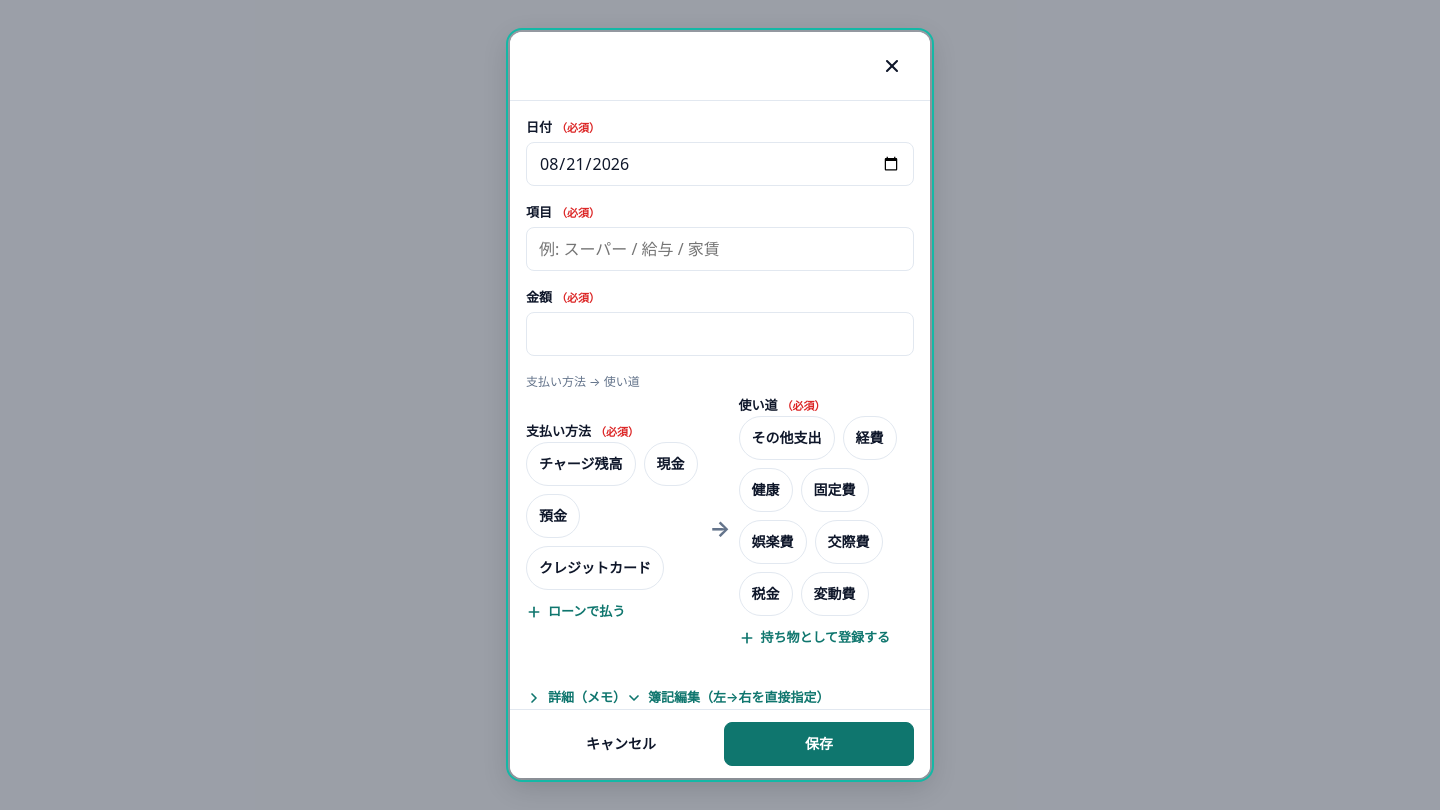
it: ローンで払う（支出シート） › 返済元は全科目から選べる（収入カテゴリも候補に出る）
Expected: the radio button labelled "その他支出" is shown, x1=738 y1=416 x2=834 y2=460
Step 1. Type "自動車" into the field labelled "項目（必須）" → (720, 249), box x1=526 y1=227 x2=914 y2=271
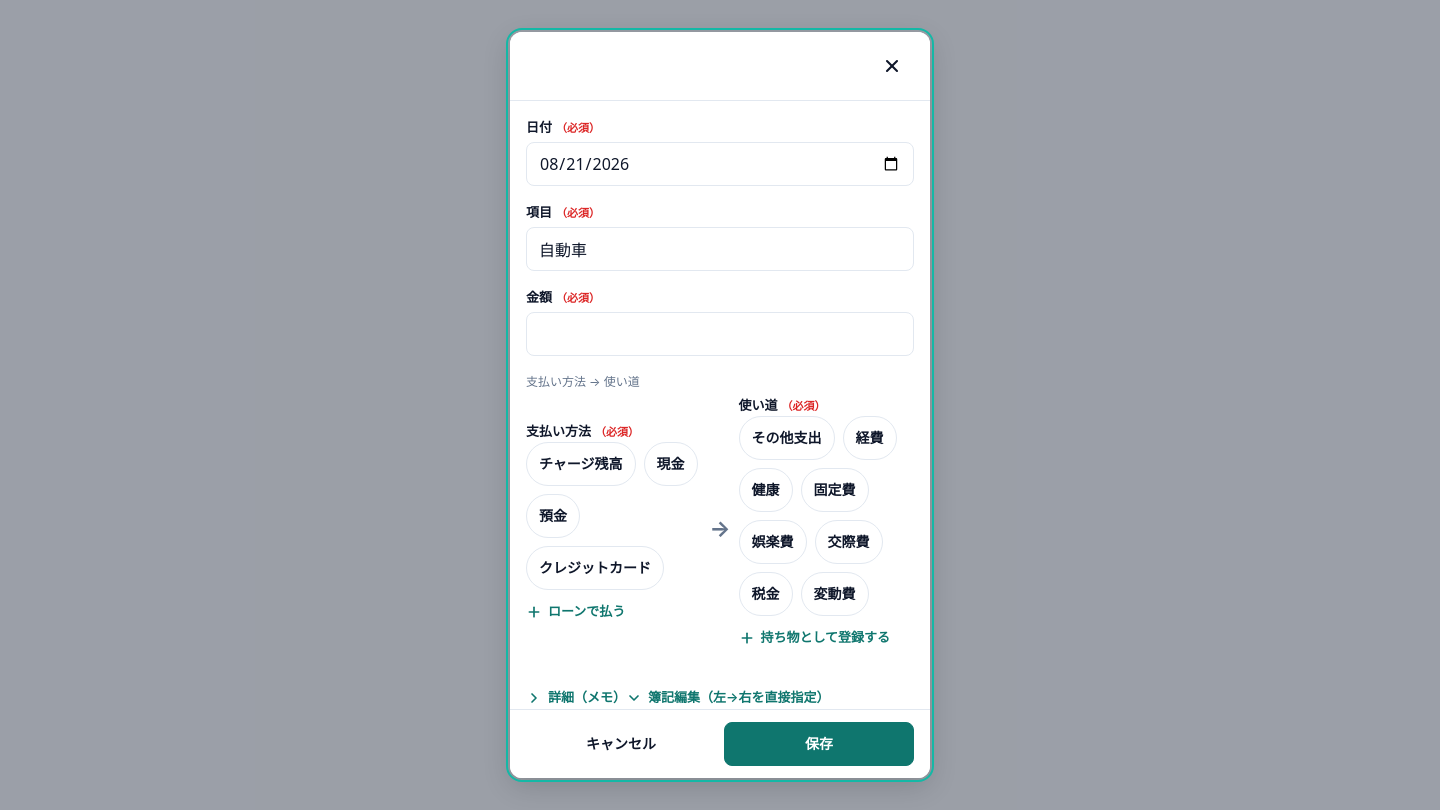
Step 2. Type "1200000" into the field labelled "金額（必須）" → (720, 334), box x1=526 y1=312 x2=914 y2=356
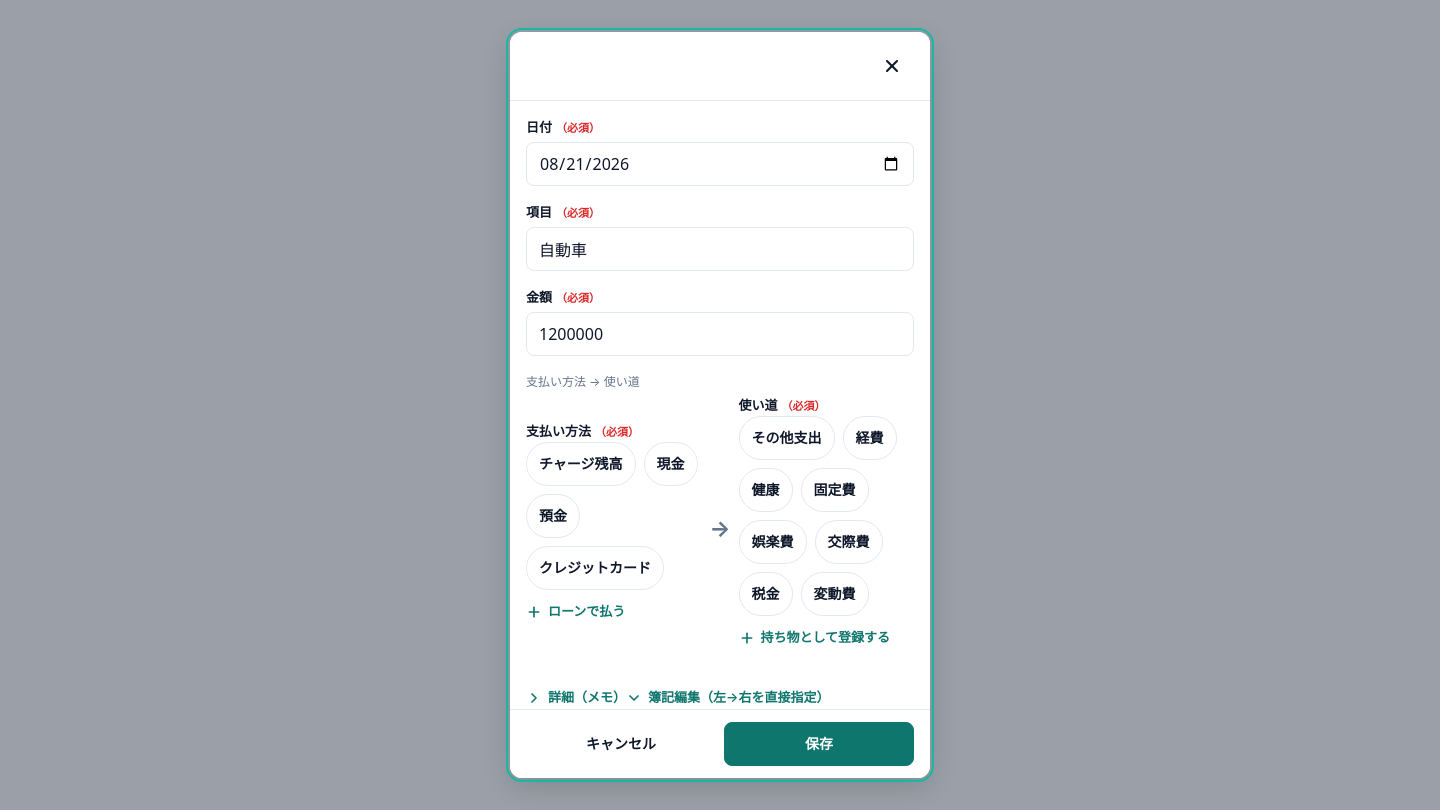
Step 3. Click the radio button labelled "その他支出" → (786, 438), box x1=738 y1=416 x2=834 y2=460
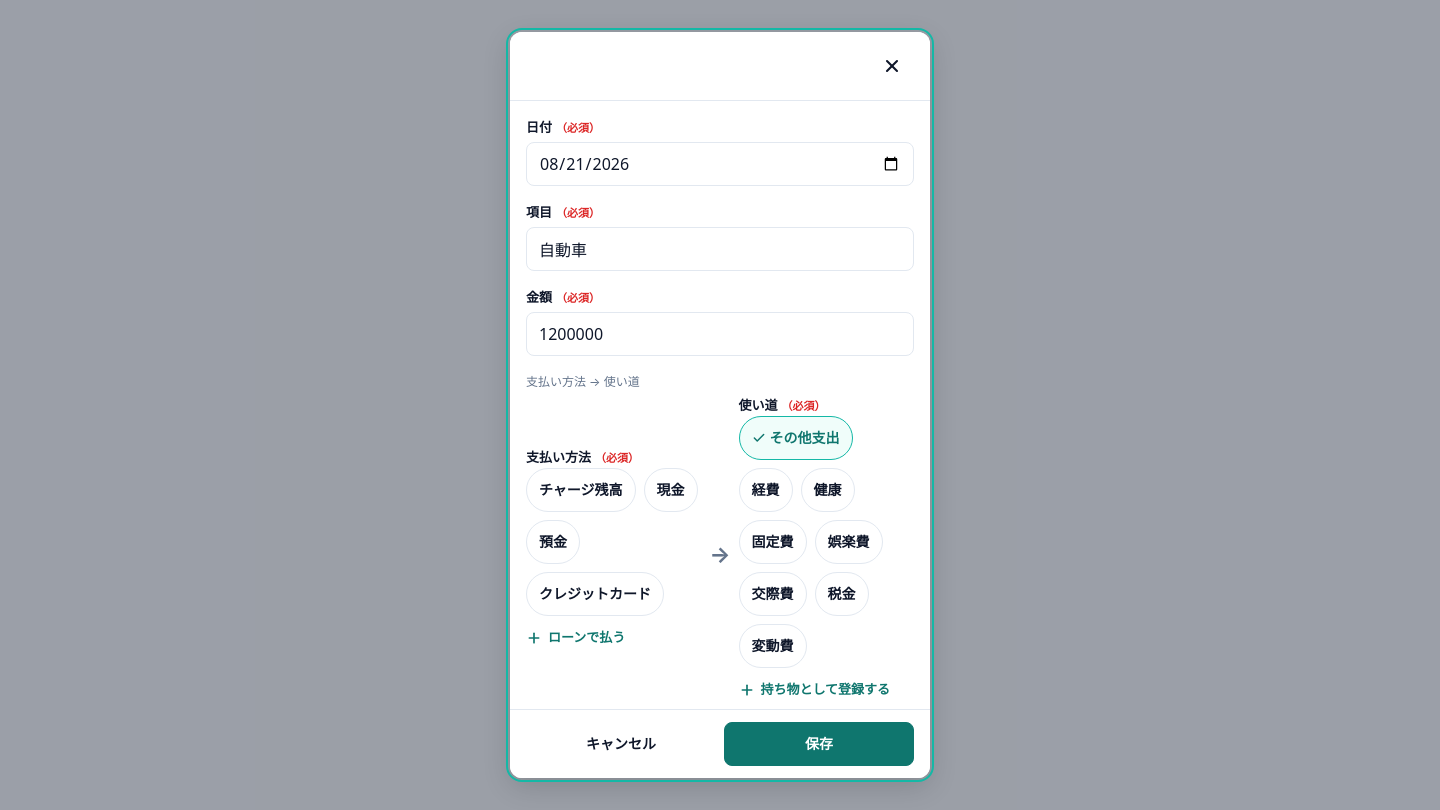
Step 4. Click the button "ローンで払う" → (576, 638), box x1=526 y1=616 x2=625 y2=660
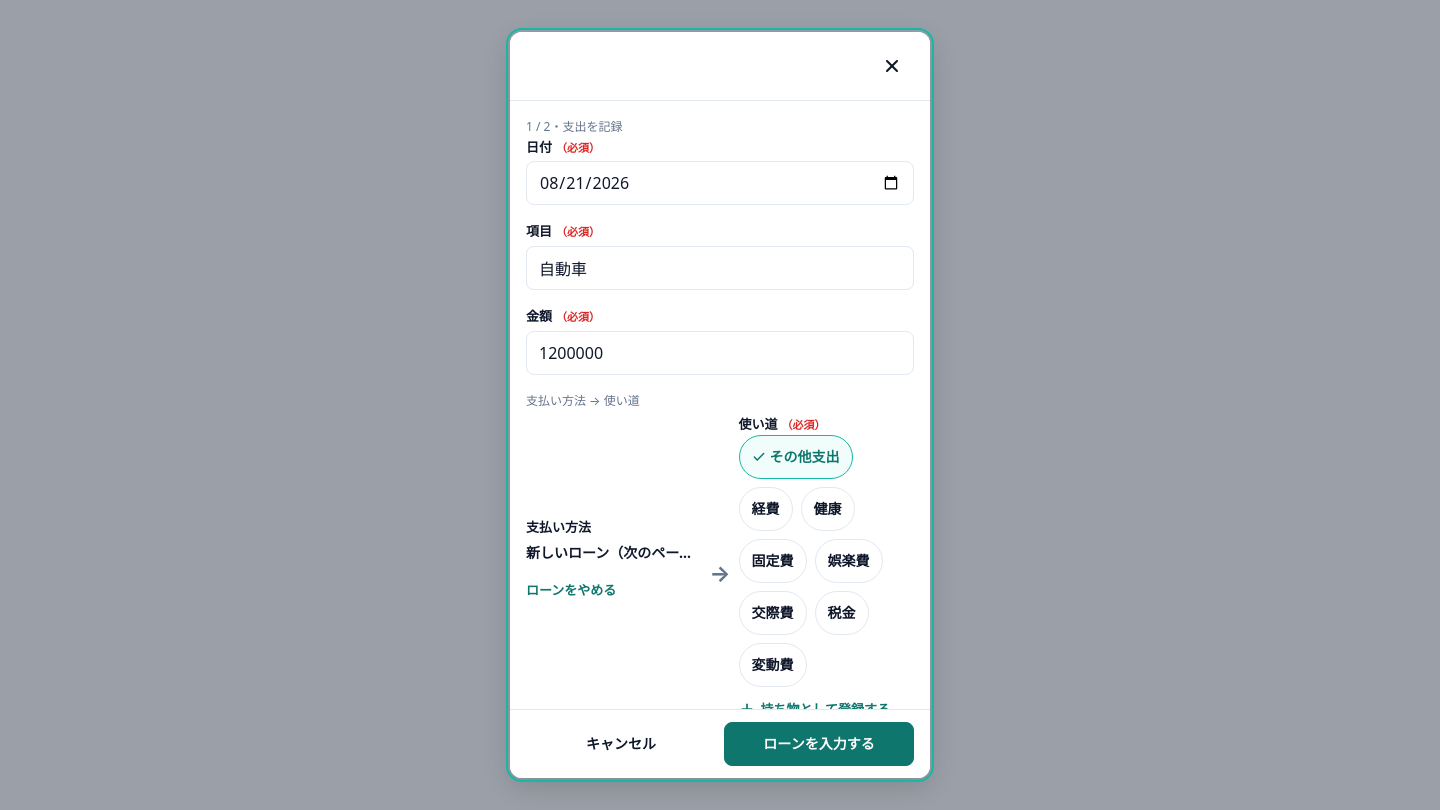
Step 5. Click the button "ローンを入力する" → (819, 744), box x1=724 y1=722 x2=914 y2=766
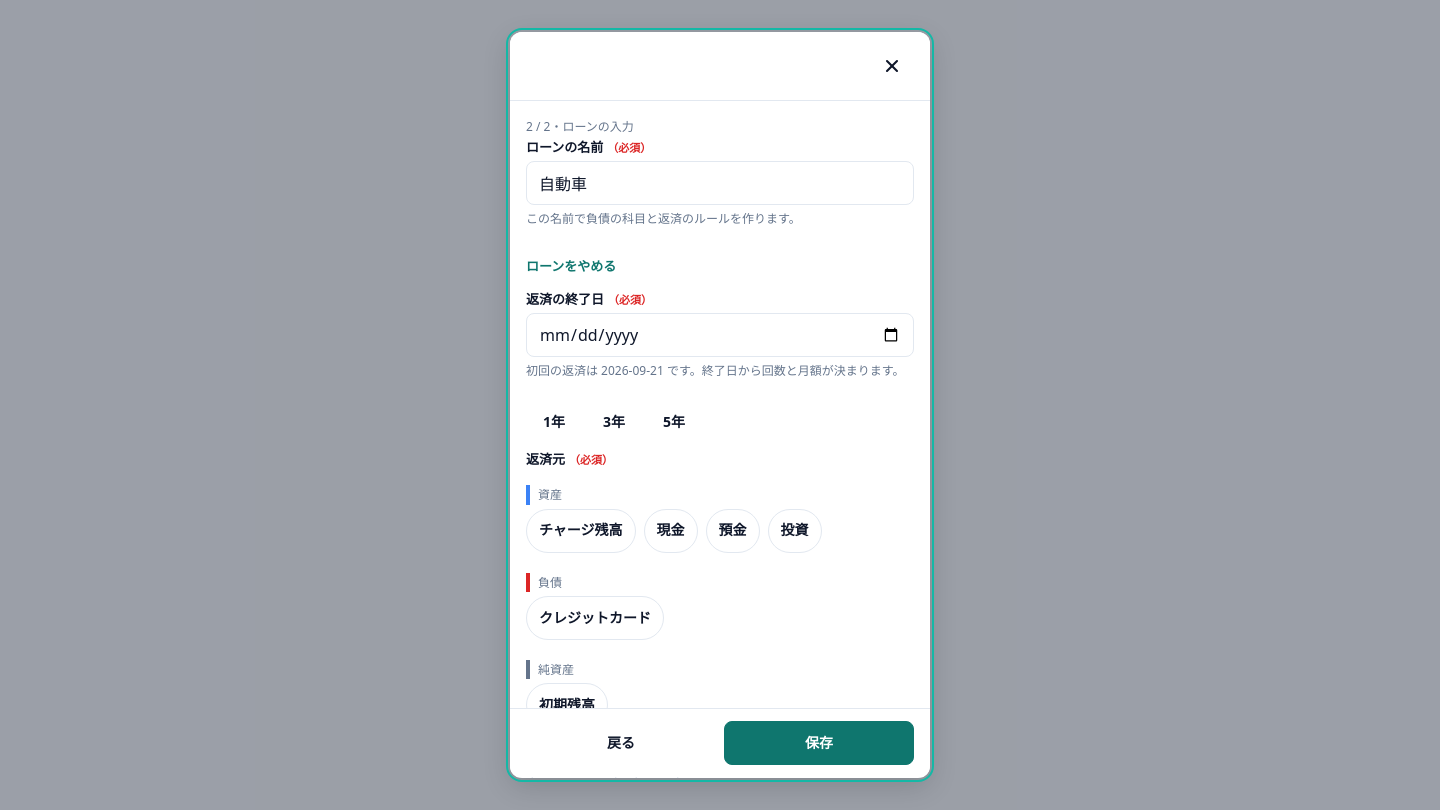
Now the radio button labelled "現金" is shown, box x1=644 y1=508 x2=698 y2=552
Now the radio button labelled "クレジットカード" is shown, box x1=526 y1=596 x2=664 y2=640
